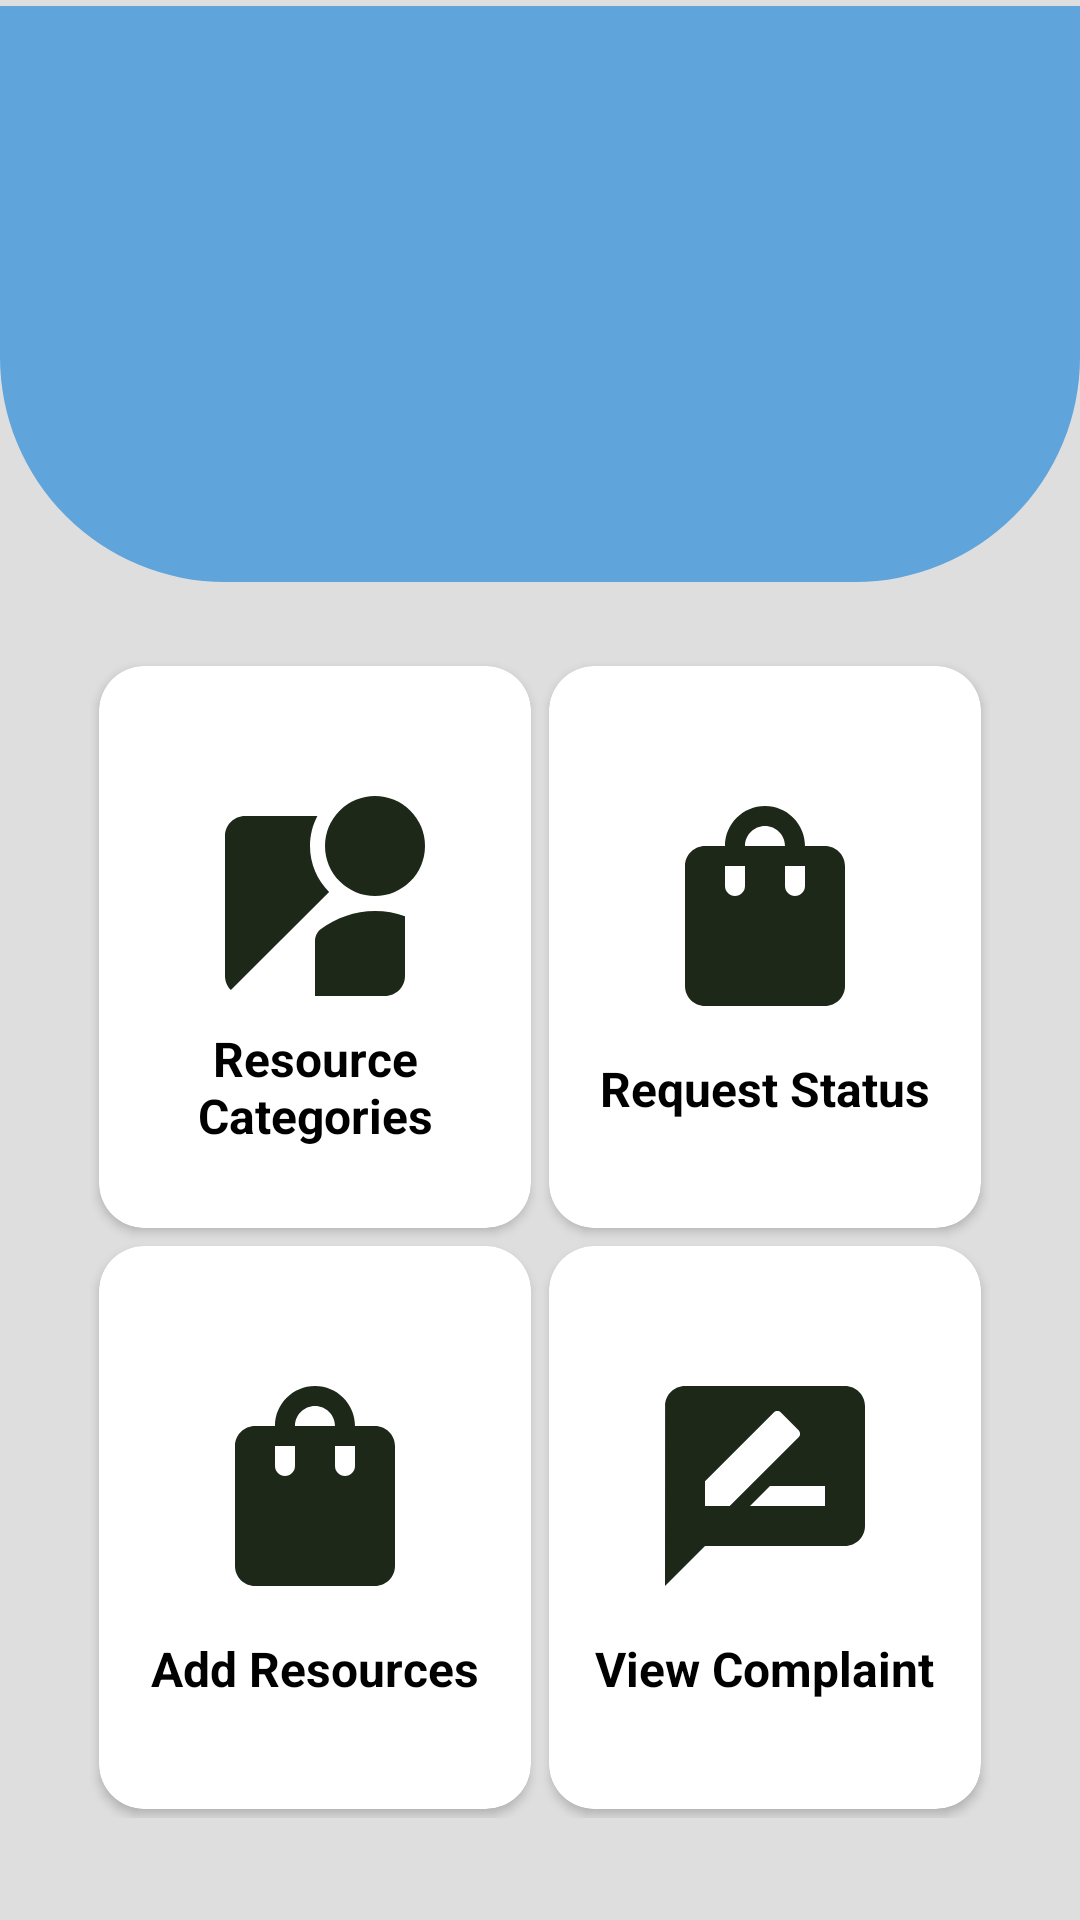

Icons on this 1080 × 1920 Android screen, each with its box as [x1, y1, x2, y2]:
request resource: [685, 806, 845, 1006], [235, 1386, 395, 1586]
